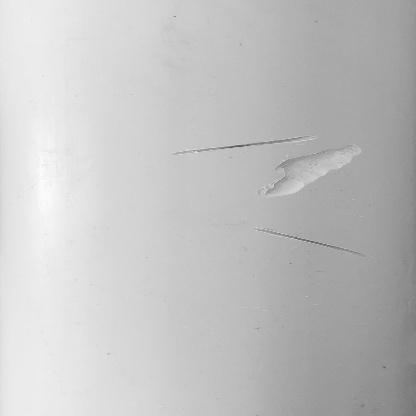sunshang: (250, 140, 368, 202), (246, 220, 372, 262), (165, 131, 323, 153)
